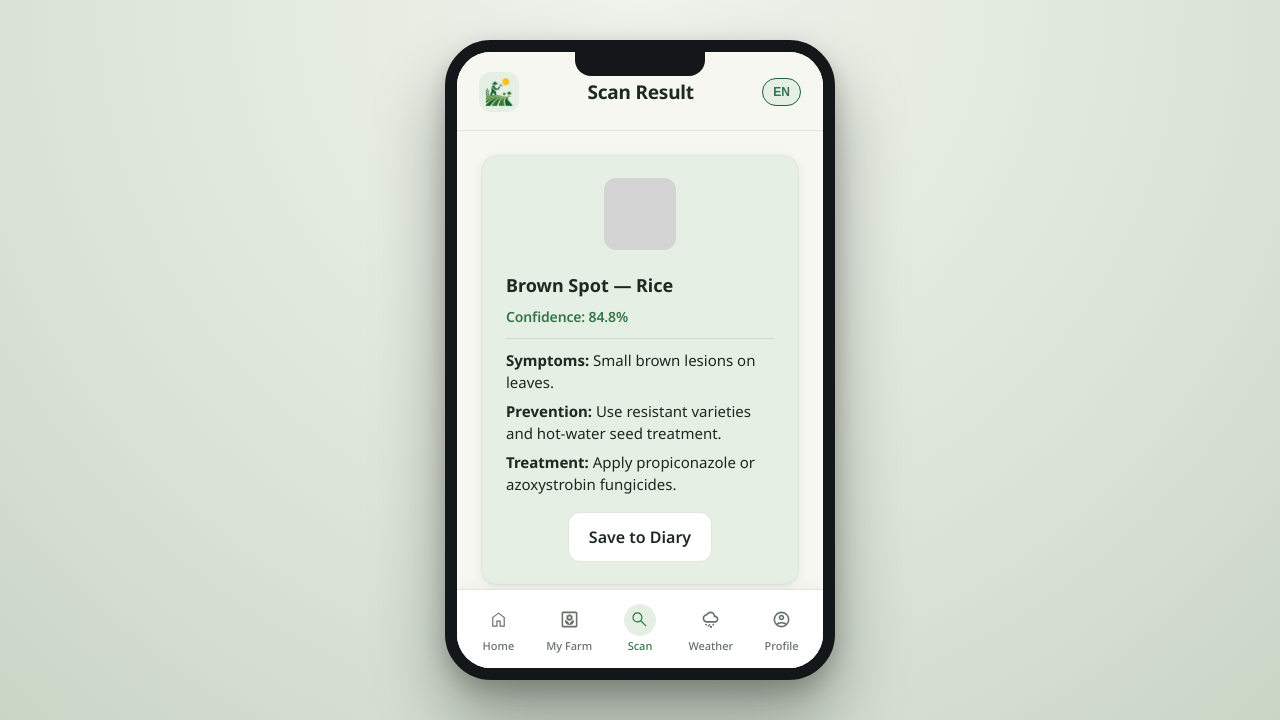
Test: ScanHistoryDetailPage › shows a Save to Diary button for an active tracker's crop, and names the scan's OWN date in the confirmation (not today's)
What coordinates should you click on to do the following:
click the button "Save to Diary"
I would click on:
 (640, 537)
Its box is [568, 512, 712, 562].
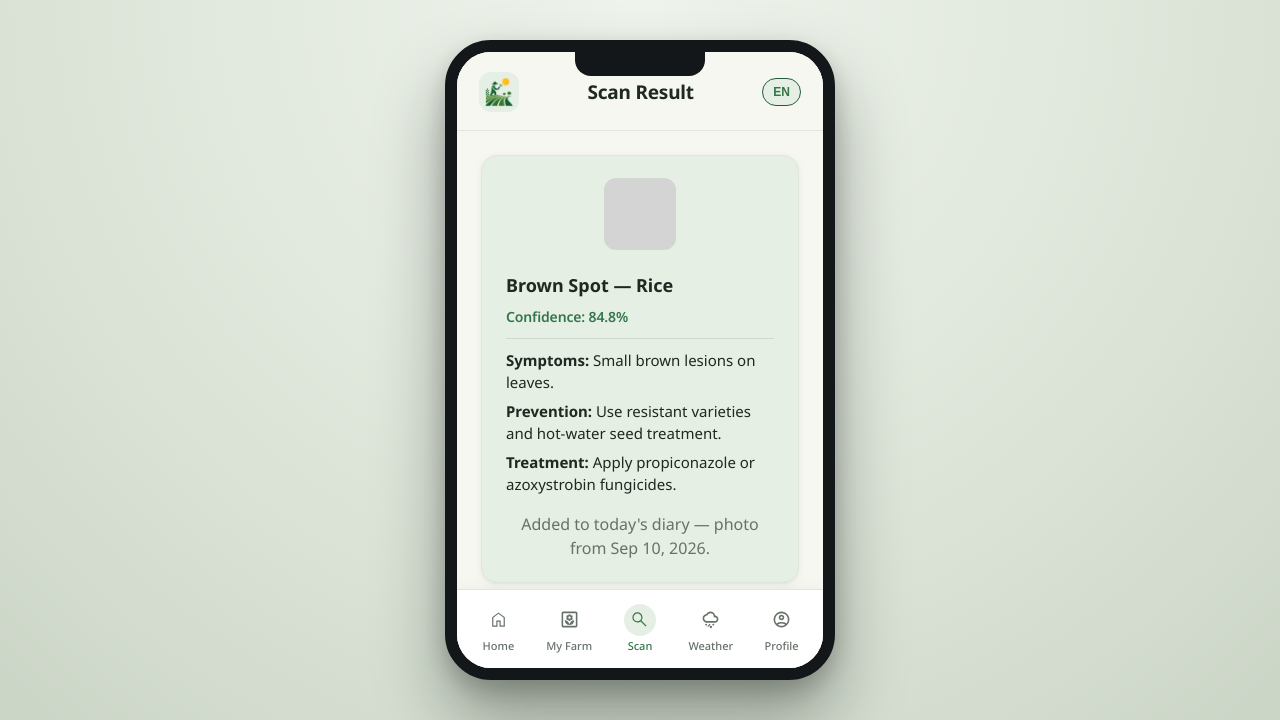
Now the text "Added to today's diary — photo from Sep 10, 2026." is shown, box [506, 512, 774, 560]
